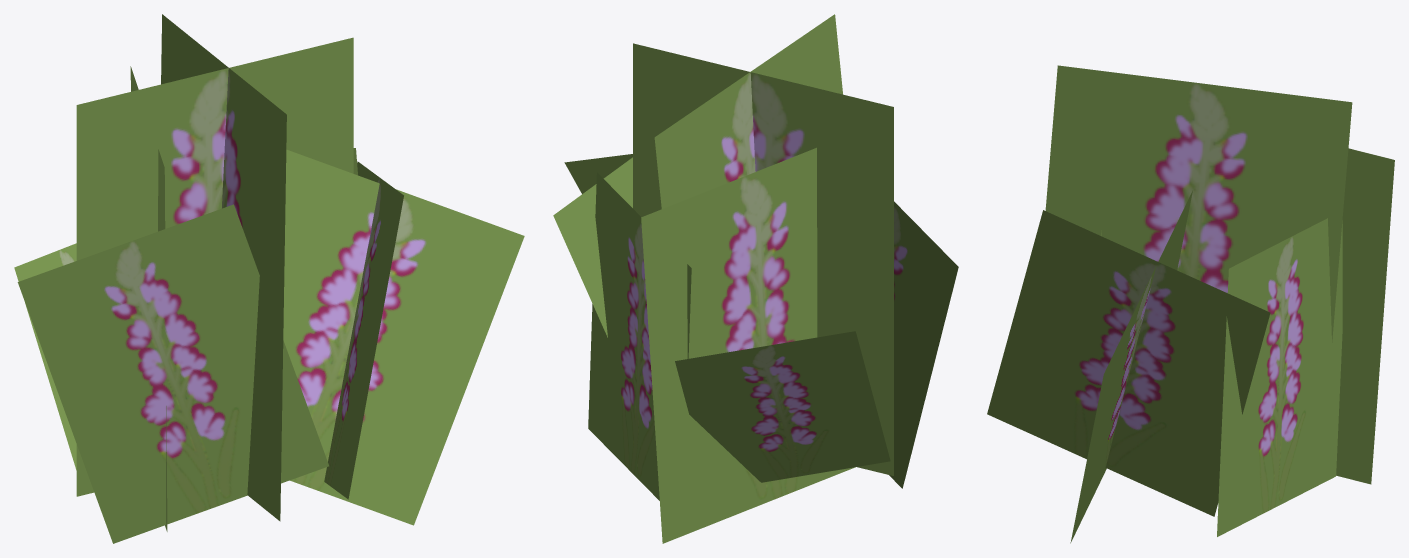
Rendered from Grass05.fbx.
3 renders of one model, left to right at view 1: azimuth 30°, elevation 25°; view 2: azimuth 150°, elevation 25°; view 3: azimuth 270°, elevation 25°, orthographic. The views are drawn at different scales.
Parts seen in each view (by area): view 1: Grass05_LOD0; view 2: Grass05_LOD0; view 3: Grass05_LOD0.
Part boxes in pixels (<box>): Grass05_LOD0: <box>14,14,524,543</box>; Grass05_LOD0: <box>553,14,958,543</box>; Grass05_LOD0: <box>987,65,1394,543</box>.
Size of what is drawn, in the model's own units: 247 by 229 by 203.
